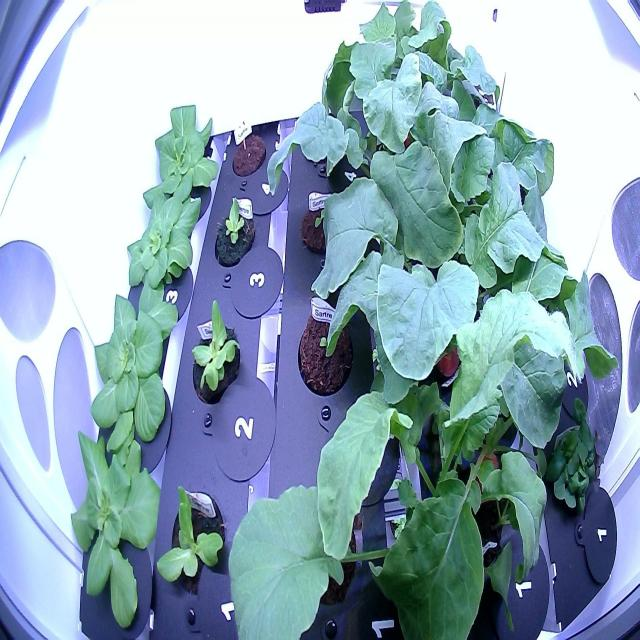germination: (293, 302, 358, 405), (298, 187, 358, 272)
pod: (228, 122, 270, 183)
young: (62, 419, 172, 640), (83, 279, 187, 469), (150, 458, 240, 615), (121, 175, 206, 313), (137, 96, 230, 220), (185, 290, 249, 417), (210, 189, 264, 275)
